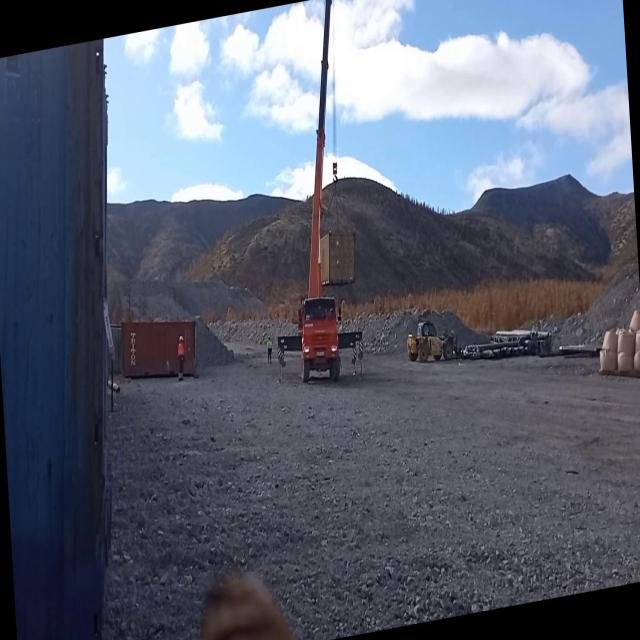crane: (254, 0, 368, 393)
